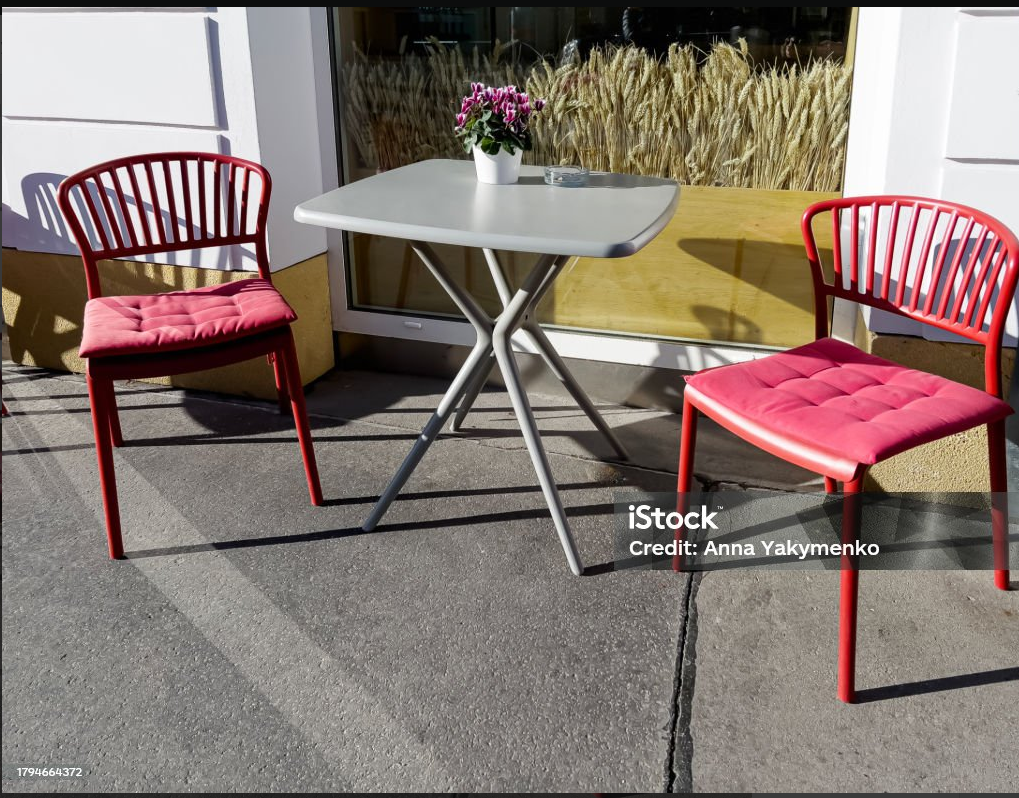obstacle: (296, 155, 685, 579), (690, 191, 1012, 698), (54, 150, 348, 562), (453, 79, 548, 186)
